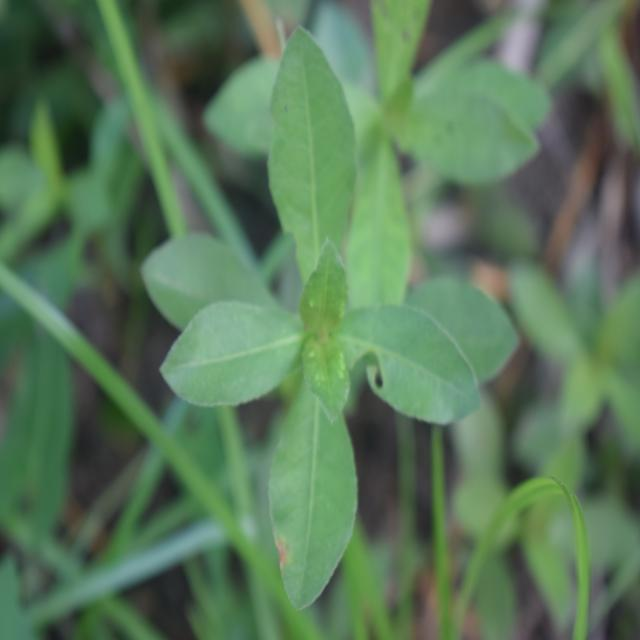Alligatorweed: (153, 38, 464, 584)
